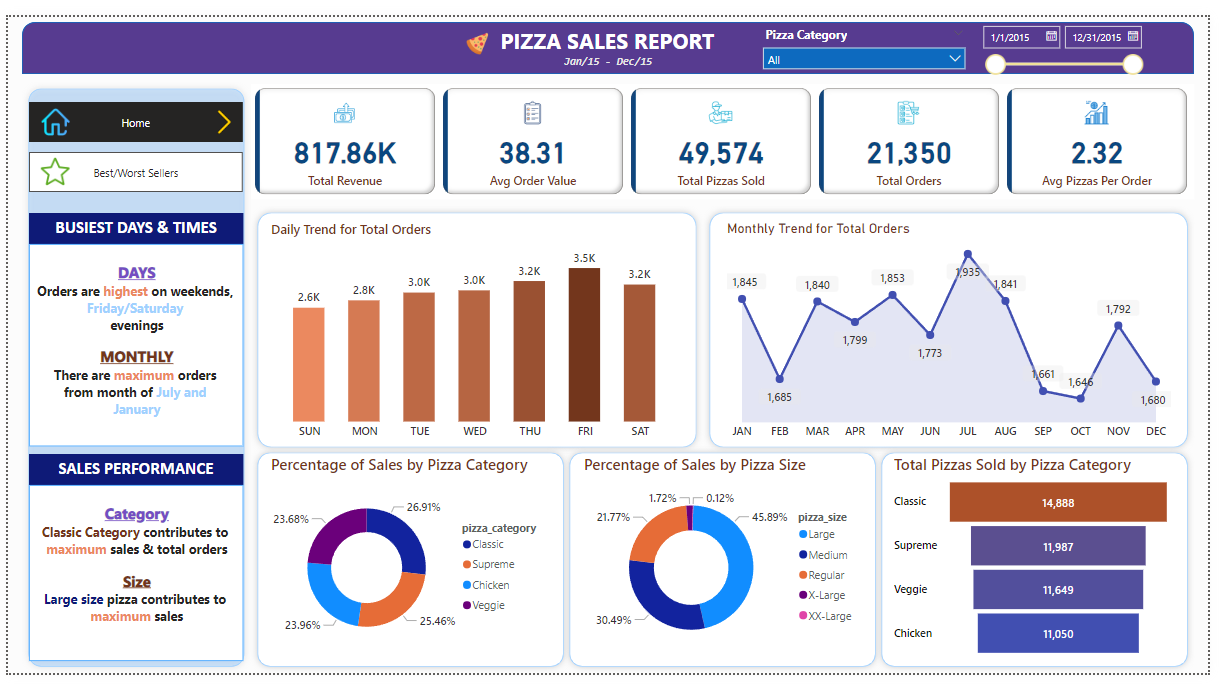

The page's visual inventory and layout, read from the dashboard file:
{"tool":"powerbi","page":{"name":"Home","canvas":[1500,820],"ordinal":0},"visuals":[{"type":"cardVisual","fields":{"Data":["pizza_sales.Total Revenue","pizza_sales.Avg Order Value","pizza_sales.Total Pizzas Sold","pizza_sales.Total Orders","pizza_sales.Avg Pizzas Per Order"]},"box":[303.8,83.8,1178.8,143.8],"z":0},{"type":"shape","box":[17.5,6.2,1465,65],"z":1000},{"type":"textbox","box":[605,6.2,288.8,53.8],"z":2000},{"type":"textbox","box":[681.2,41.2,137.5,40],"z":3000},{"type":"image","box":[567.5,12.5,37.5,41.2],"z":4000},{"type":"shape","box":[303.8,236.2,565,310],"z":5000},{"type":"columnChart","title":"Daily Trend for Total Orders","fields":{"Category":["pizza_sales.Order Day"],"Y":["pizza_sales.Total Orders"]},"box":[323.8,253.8,520,282.5],"z":6000},{"type":"shape","box":[17.5,81.2,286.2,738.8],"z":7000},{"type":"textbox","box":[26.2,245,267.5,38.8],"z":8000},{"type":"shape","box":[868.8,236.2,613.8,310],"z":9000},{"type":"areaChart","title":"Monthly Trend for Total Orders","fields":{"Category":["pizza_sales.Order Month"],"Y":["pizza_sales.Total Orders"]},"box":[893.8,253.8,565,282.5],"z":10000},{"type":"shape","box":[1083.8,536.2,398.8,283.8],"z":11000},{"type":"shape","box":[693.8,536.2,398.8,283.8],"z":12000},{"type":"shape","box":[303.8,536.2,398.8,283.8],"z":13000},{"type":"donutChart","title":"Percentage of Sales by Pizza Category","fields":{"Category":["pizza_sales.pizza_category"],"Y":["pizza_sales.Total Revenue"]},"box":[323.8,546.2,357.5,258.8],"z":14000},{"type":"donutChart","title":"Percentage of Sales by Pizza Size","fields":{"Y":["pizza_sales.Total Revenue"],"Category":["pizza_sales.pizza_size"]},"box":[715,546.2,357.5,258.8],"z":15000},{"type":"funnel","title":"Total Pizzas Sold by Pizza Category","fields":{"Category":["pizza_sales.pizza_category"],"Y":["pizza_sales.Total Pizzas Sold"]},"box":[1102.5,546.2,356.2,258.8],"z":16000},{"type":"textbox","box":[26.2,283.8,267.5,252.5],"z":17000},{"type":"textbox","box":[26.2,546.2,267.5,38.8],"z":18000},{"type":"textbox","box":[26.2,585,267.5,220],"z":19000},{"type":"slicer","fields":{"Values":["pizza_sales.pizza_category"]},"box":[933.8,6.2,272.5,65],"z":20000},{"type":"slicer","fields":{"Values":["pizza_sales.order_date"]},"box":[1206.2,1.2,221.2,75],"z":21000},{"type":"pageNavigator","box":[26.2,106.2,267.5,50],"z":22000},{"type":"pageNavigator","box":[26.2,168.8,267.5,50],"z":23000},{"type":"image","box":[247.5,111.2,46.2,40],"z":24000},{"type":"image","box":[35,108.8,47.5,45],"z":25000},{"type":"image","box":[35,170,47.5,46.2],"z":26000}]}

Visuals, with their boxes on the page's 1500x820 design canvas (x1, y1, x2, y2). These are canvas units, not pixel positions in the 1225x693 screenshot, which may show the page scaled, cropped or inside an application window:
cardVisual - pizza_sales.Total Revenue x pizza_sales.Avg Order Value: <bbox>304, 84, 1483, 228</bbox>
shape: <bbox>18, 6, 1482, 71</bbox>
textbox: <bbox>605, 6, 894, 60</bbox>
textbox: <bbox>681, 41, 819, 81</bbox>
image: <bbox>568, 12, 605, 54</bbox>
shape: <bbox>304, 236, 869, 546</bbox>
"Daily Trend for Total Orders" columnChart: <bbox>324, 254, 844, 536</bbox>
shape: <bbox>18, 81, 304, 820</bbox>
textbox: <bbox>26, 245, 294, 284</bbox>
shape: <bbox>869, 236, 1483, 546</bbox>
"Monthly Trend for Total Orders" areaChart: <bbox>894, 254, 1459, 536</bbox>
shape: <bbox>1084, 536, 1483, 820</bbox>
shape: <bbox>694, 536, 1093, 820</bbox>
shape: <bbox>304, 536, 703, 820</bbox>
"Percentage of Sales by Pizza Category" donutChart: <bbox>324, 546, 681, 805</bbox>
"Percentage of Sales by Pizza Size" donutChart: <bbox>715, 546, 1072, 805</bbox>
"Total Pizzas Sold by Pizza Category" funnel: <bbox>1102, 546, 1459, 805</bbox>
textbox: <bbox>26, 284, 294, 536</bbox>
textbox: <bbox>26, 546, 294, 585</bbox>
textbox: <bbox>26, 585, 294, 805</bbox>
slicer - pizza_sales.pizza_category: <bbox>934, 6, 1206, 71</bbox>
slicer - pizza_sales.order_date: <bbox>1206, 1, 1427, 76</bbox>
pageNavigator: <bbox>26, 106, 294, 156</bbox>
pageNavigator: <bbox>26, 169, 294, 219</bbox>
image: <bbox>248, 111, 294, 151</bbox>
image: <bbox>35, 109, 82, 154</bbox>
image: <bbox>35, 170, 82, 216</bbox>
